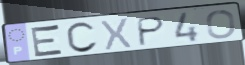4: (172, 11, 202, 44)
C: (64, 21, 100, 55)
E: (29, 23, 66, 59)
O: (205, 9, 238, 40)
P: (137, 15, 167, 48)
X: (100, 16, 134, 52)
